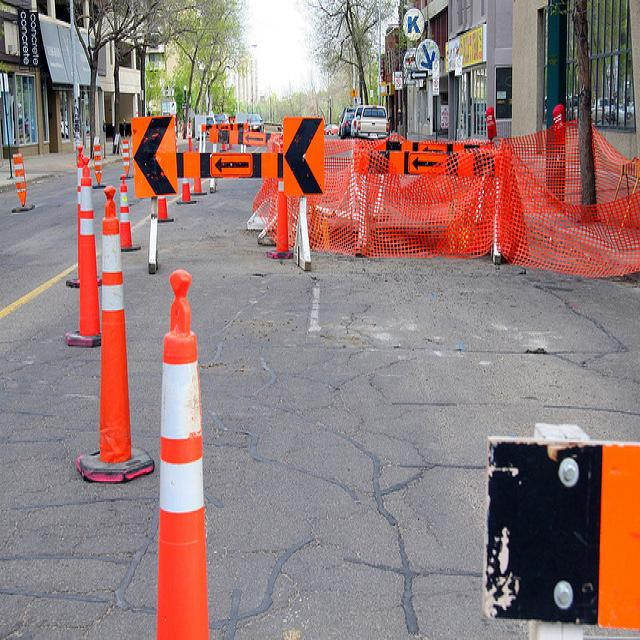Vehicle: (351, 103, 384, 137), (358, 107, 392, 139), (338, 108, 356, 135), (248, 114, 262, 131), (206, 116, 218, 135), (213, 112, 229, 125), (324, 124, 339, 135)
